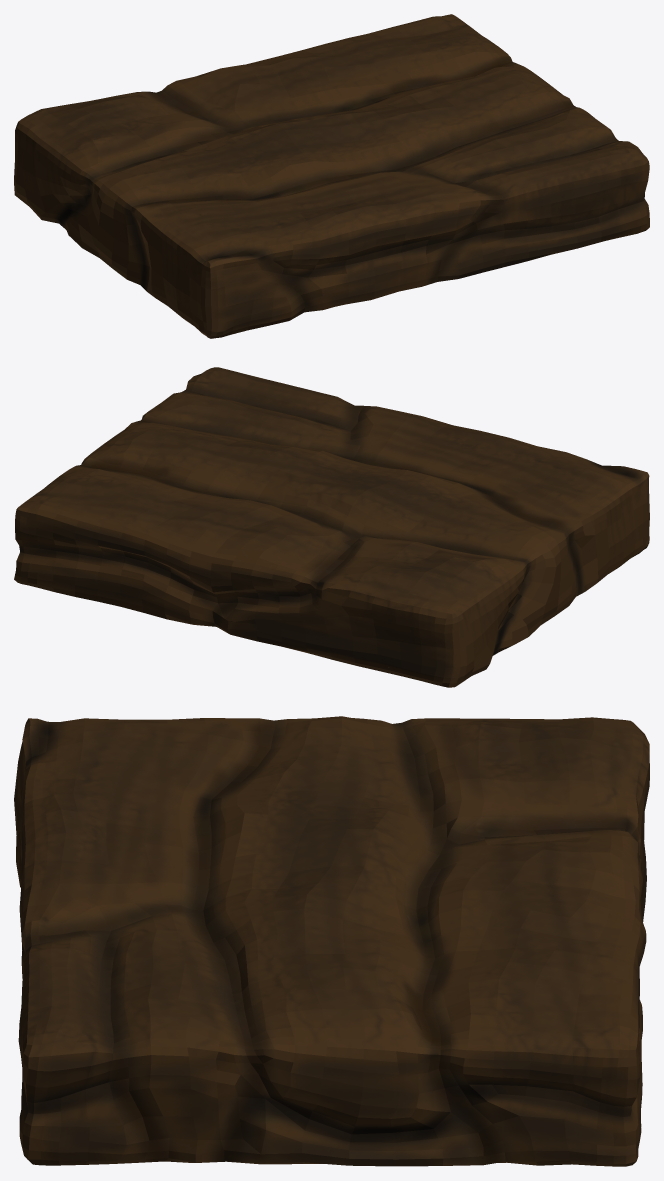
Rendered from Small_Platform_2.fbx.
3 renders of one model, top to bottom at view 1: azimuth 30°, elevation 25°; view 2: azimuth 150°, elevation 25°; view 3: azimuth 270°, elevation 25°, orthographic. The views are drawn at different scales.
Visible parts, largest first — view 1: Small_Platform_2:ZBrushPolyMesh3D; view 2: Small_Platform_2:ZBrushPolyMesh3D; view 3: Small_Platform_2:ZBrushPolyMesh3D.
Part boxes in pixels (x1=…): Small_Platform_2:ZBrushPolyMesh3D: x1=14, y1=14, x2=649, y2=338; Small_Platform_2:ZBrushPolyMesh3D: x1=14, y1=367, x2=649, y2=687; Small_Platform_2:ZBrushPolyMesh3D: x1=14, y1=716, x2=649, y2=1166.
Bounding box in the file's own units: 2 × 0.3912 × 1.57.
